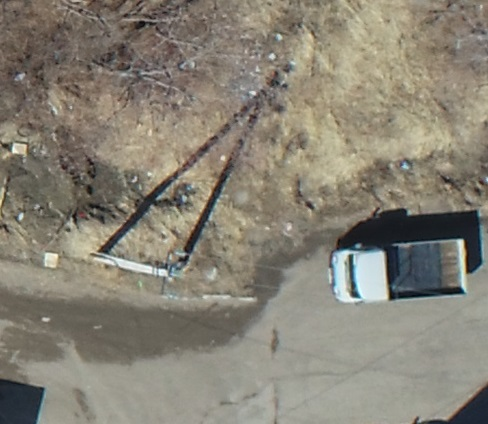opora: (86, 214, 208, 303)
